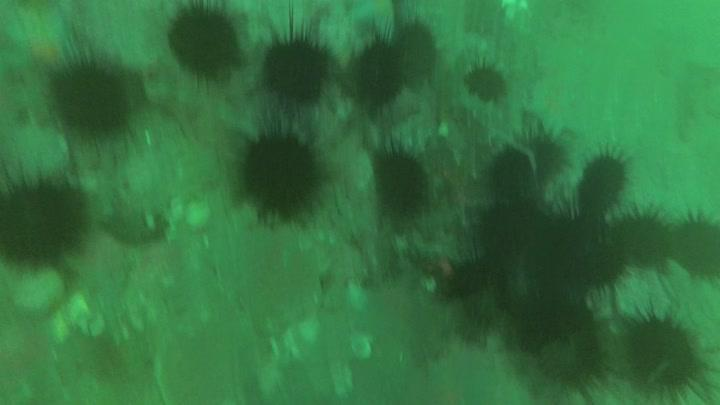urchin: (1, 182, 110, 270), (618, 305, 708, 399), (528, 323, 618, 405), (50, 62, 132, 140), (241, 131, 318, 214), (167, 6, 241, 77), (486, 207, 558, 277), (560, 217, 623, 289), (372, 143, 431, 216), (350, 35, 405, 113), (513, 278, 575, 347), (265, 32, 324, 100), (620, 208, 671, 272), (675, 215, 720, 283), (580, 147, 624, 216), (395, 24, 437, 88), (491, 150, 540, 202), (441, 252, 502, 293), (463, 65, 505, 107), (535, 135, 571, 182)
